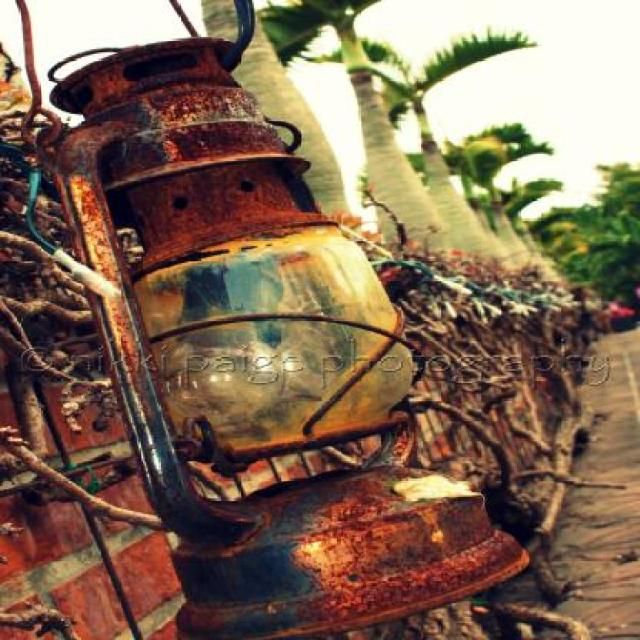corrosion: (49, 30, 542, 632)
